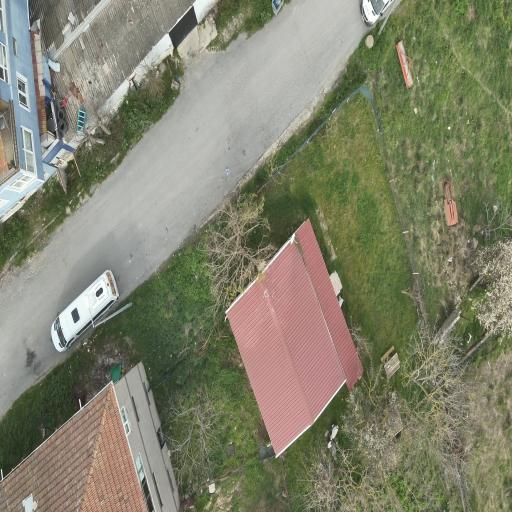car: (52, 271, 119, 351), (361, 0, 393, 26)
